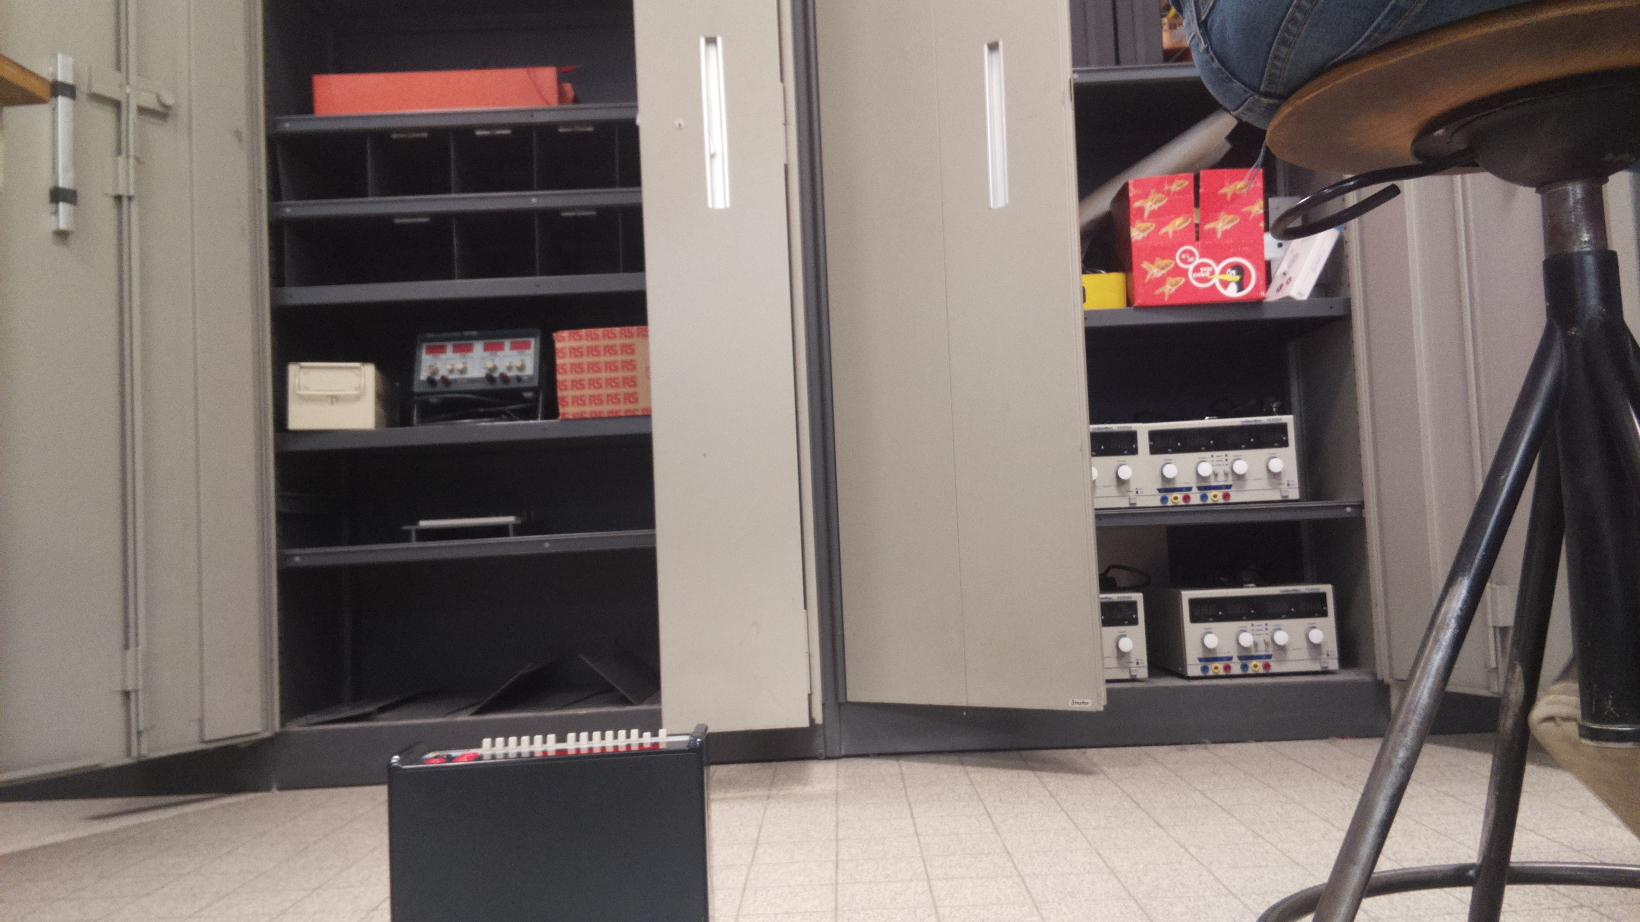medium: (385, 725, 710, 922)
